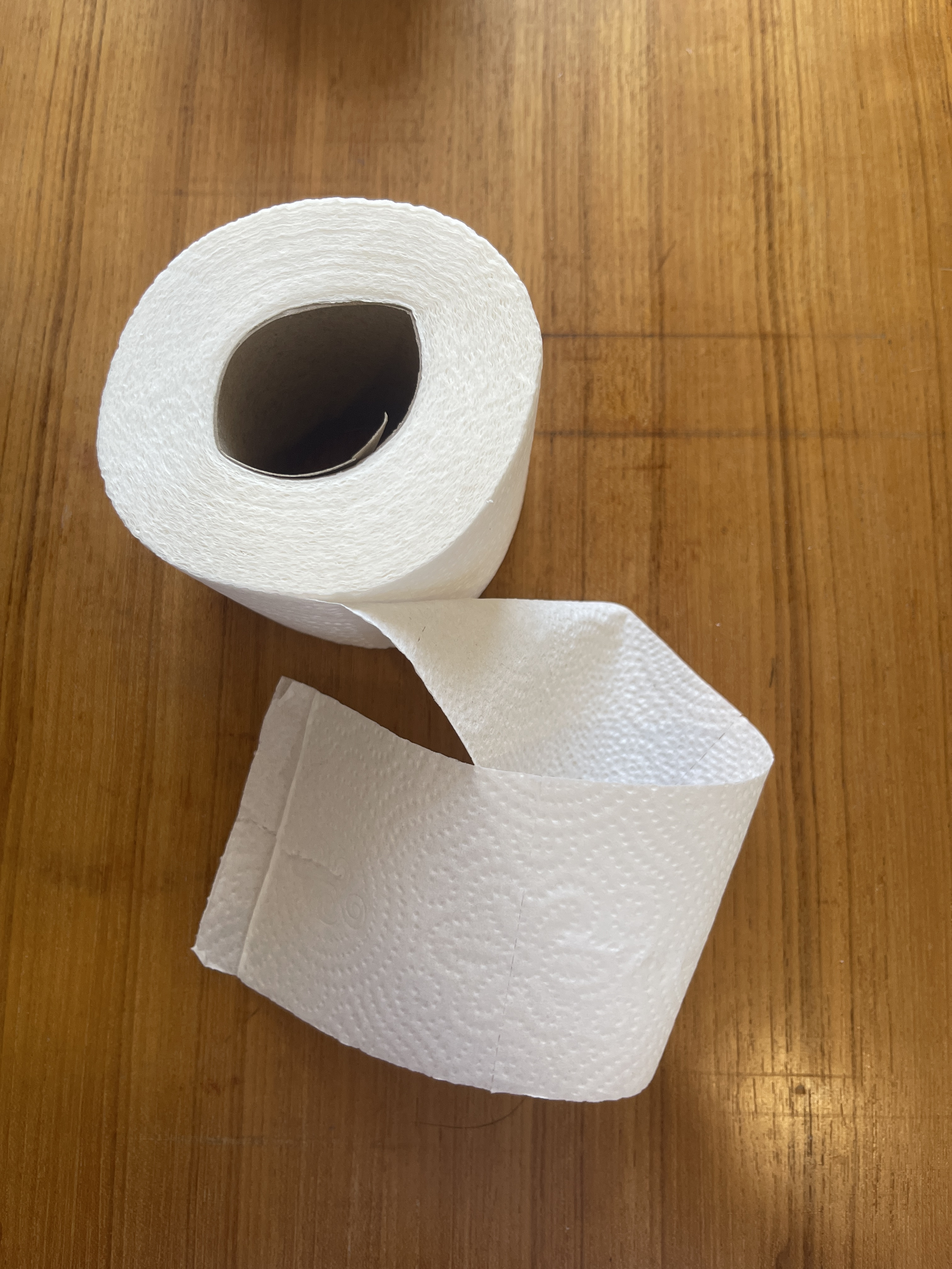paper: (93, 193, 777, 1107)
